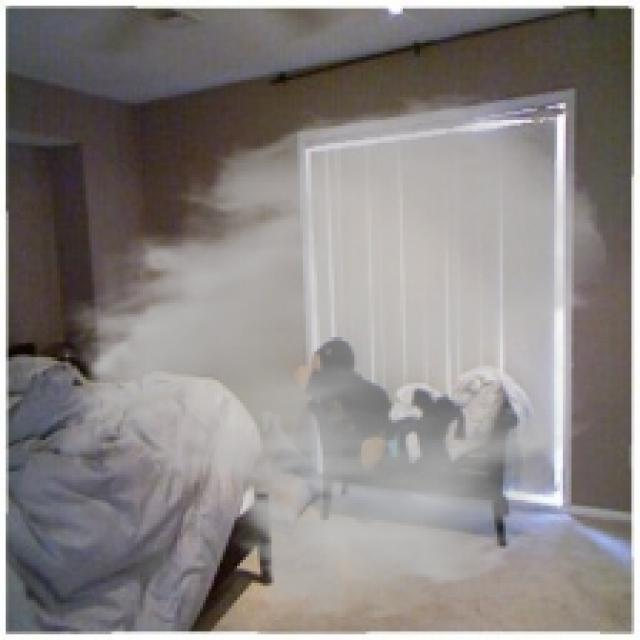smoke: (49, 89, 612, 626)
